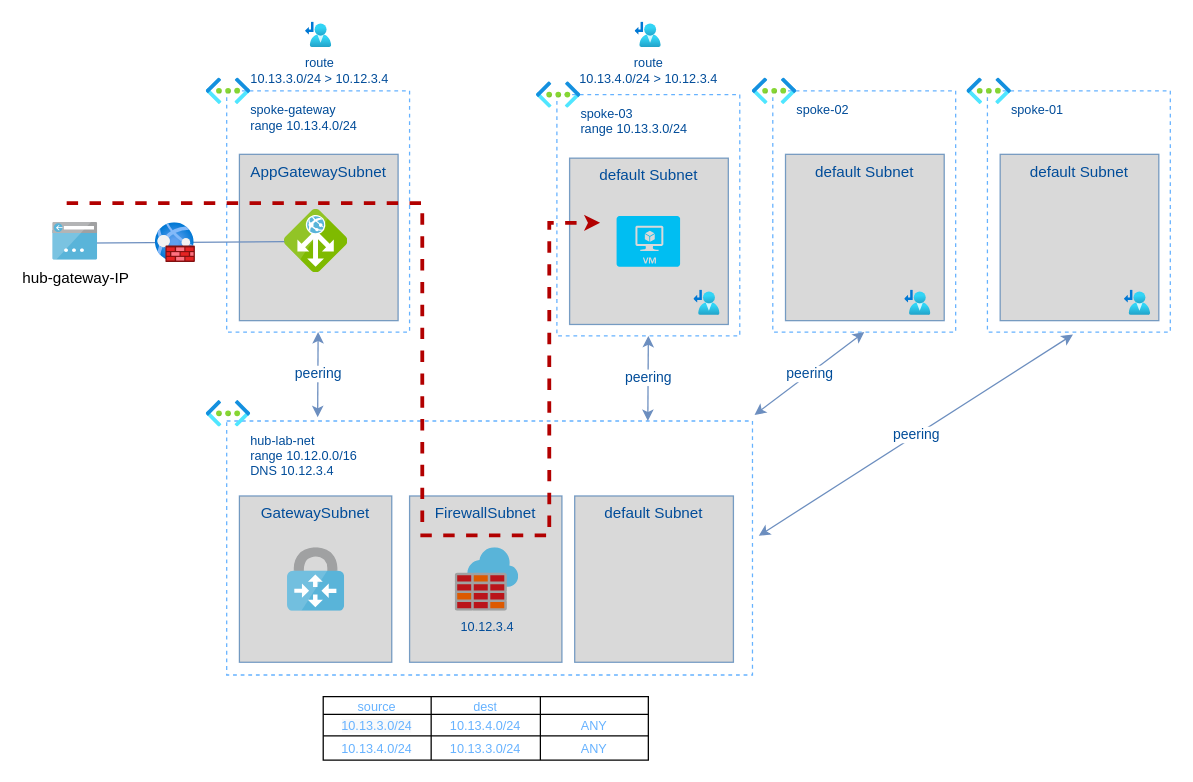
This 1193x782 diagram has some shape labels left out. The shapes that lost their labels are listed below. From the top down, each one's centre as x and y in pixels, then its label:
At pixel 175 242: "WAF".
At pixel 315 240: "hub-gateway".
At pixel 647 240: "spoke-03-vm 10.13.3.4".
